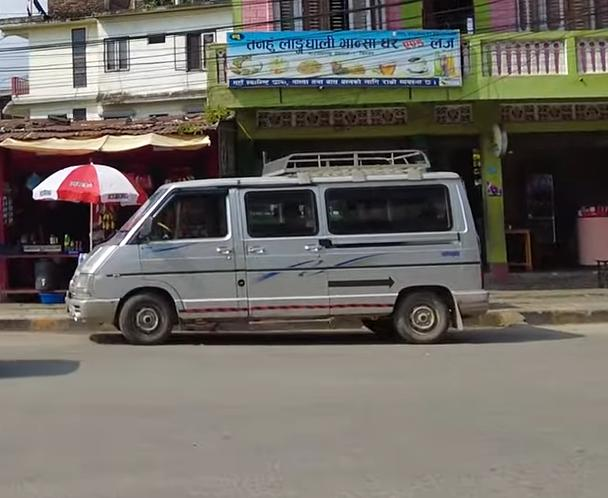micro_bus: (66, 149, 492, 362)
